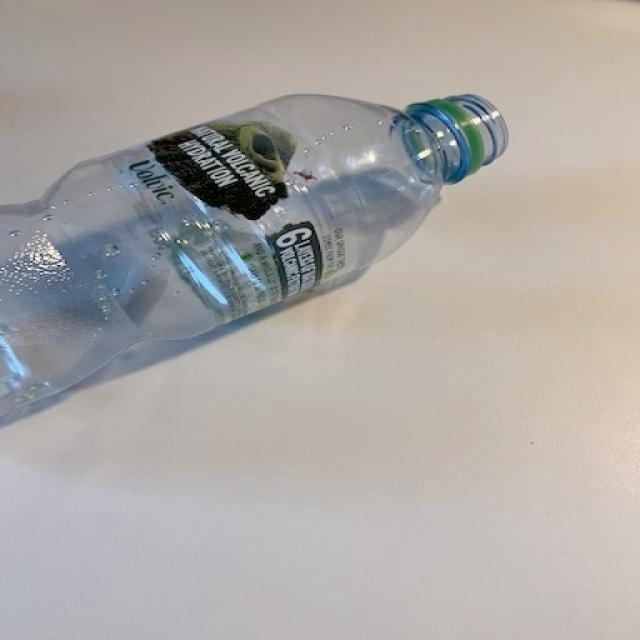bottle: (0, 93, 509, 430)
